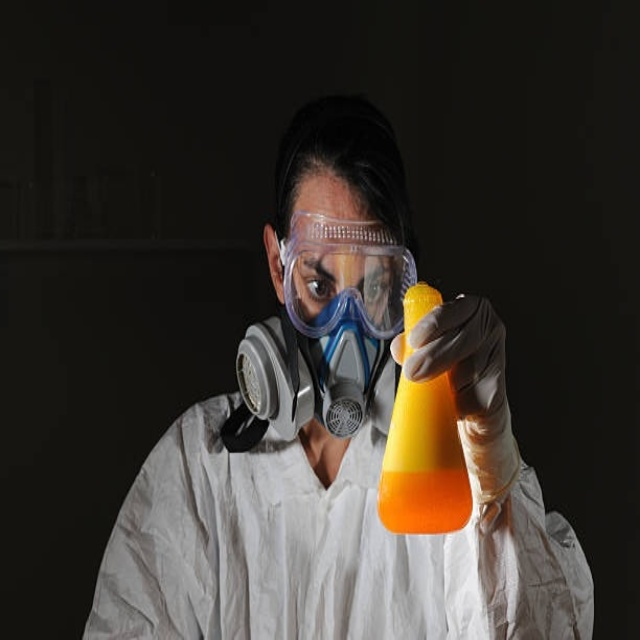Gafas: (279, 212, 417, 340)
Guantes: (394, 293, 521, 518)
Mascara: (235, 288, 390, 458)
